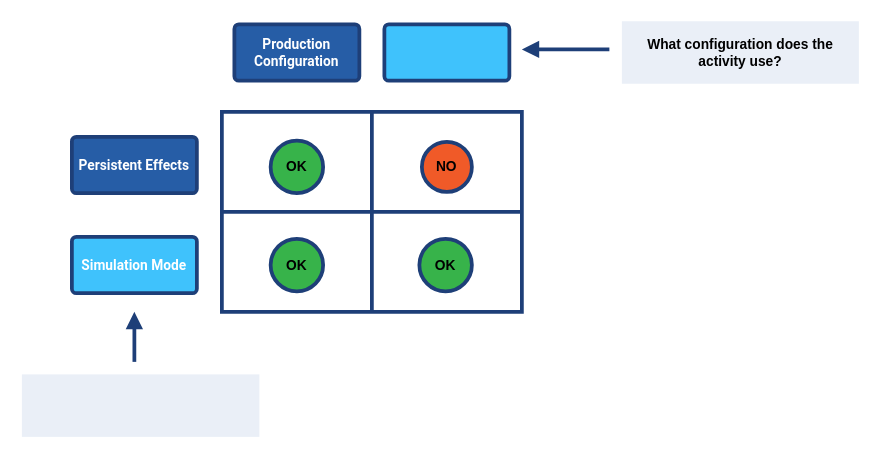
The diagram is 880 pixels wide and 459 high, and some of its shapes have lost their labels. The box of each missing label's shape, as (x1, y1, x2, y2) in pixels:
Are effects of the activity persistent or not (i.e. simulated)?: (21, 374, 259, 436)
Development Configuration: (382, 22, 511, 82)
